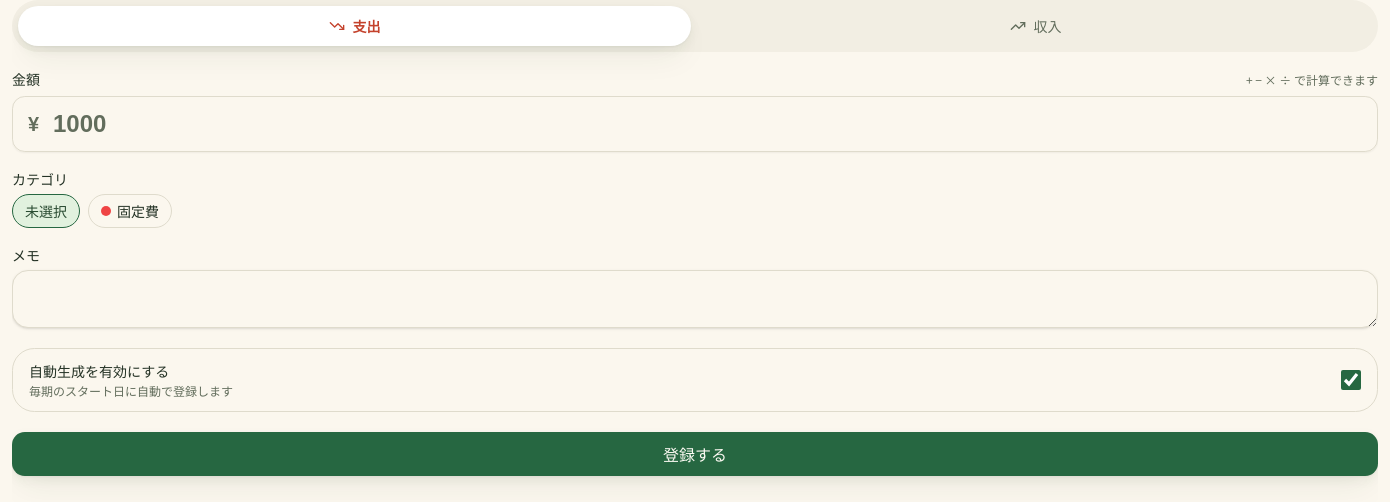
Test: RecurringForm › 収入に切り替えると収入カテゴリのチップに入れ替わる
The width and height of the screenshot is (1390, 502).
Step 1. Click the radio button labelled "収入" → point(1036, 26), box x1=1010 y1=16 x2=1062 y2=36
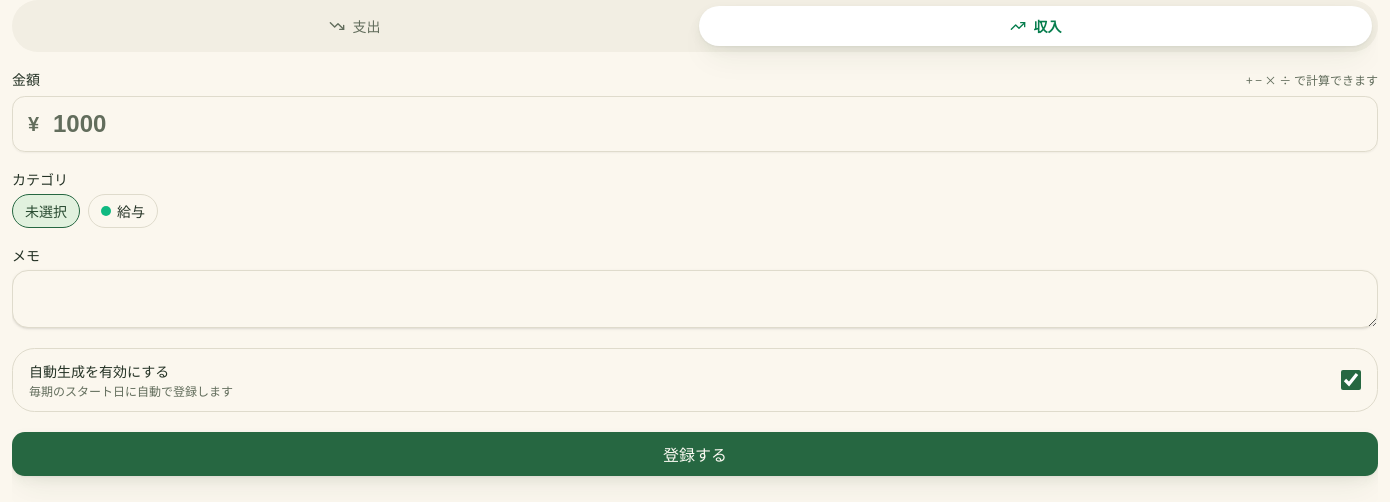
Expected: the radio button labelled "給与" is shown, x1=88 y1=194 x2=158 y2=228
Expected: the radio button labelled "固定費" is gone
